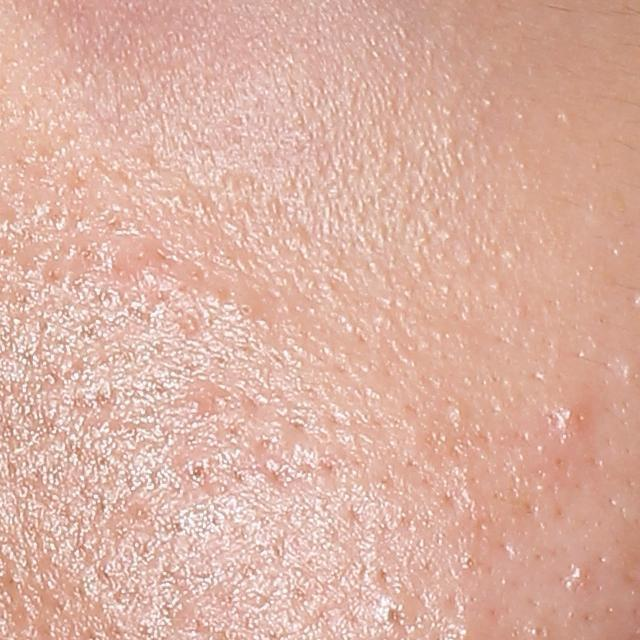comedo: (533, 391, 592, 447), (239, 299, 259, 317)
